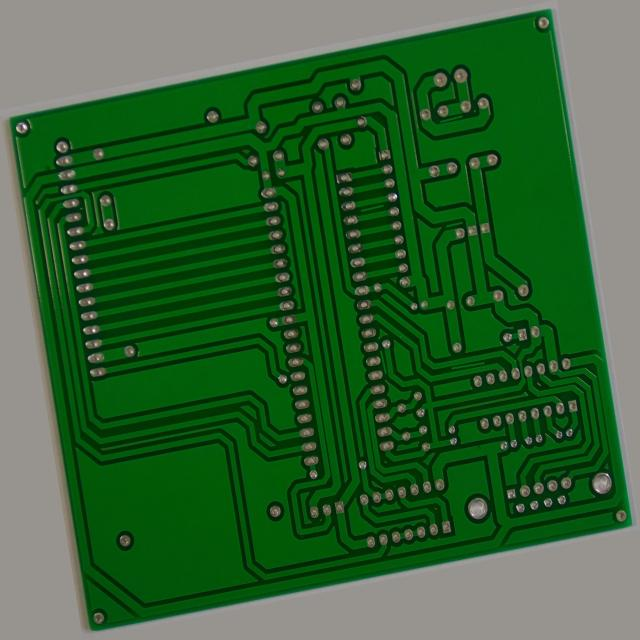spurious_copper: (455, 399, 497, 416), (381, 193, 415, 210), (486, 107, 517, 122), (376, 367, 389, 402), (472, 231, 498, 245)
